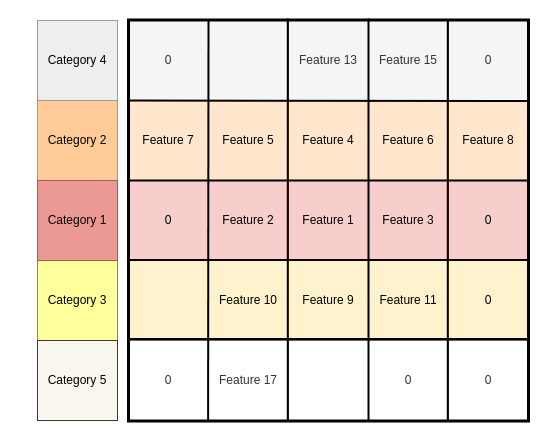
Image size: 548x441. Some labels were removed from this diagram. Each missing label, with the centre of its shape:
Feature 12: the point at 168,300
Feature 14: the point at 248,60
Feature 16: the point at 328,380
